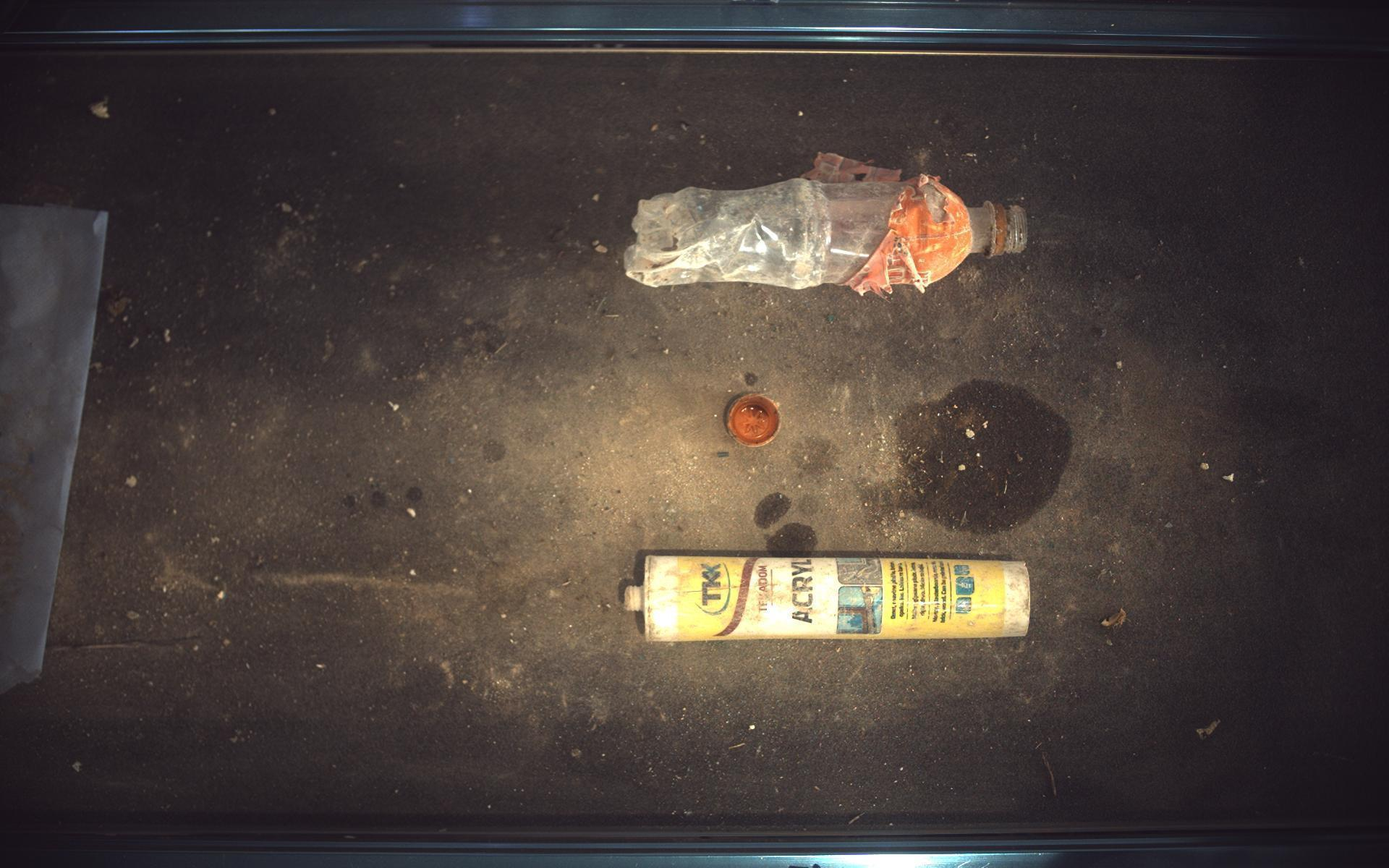general_w: (625, 153, 1029, 294)
plastic: (624, 554, 1033, 642)
